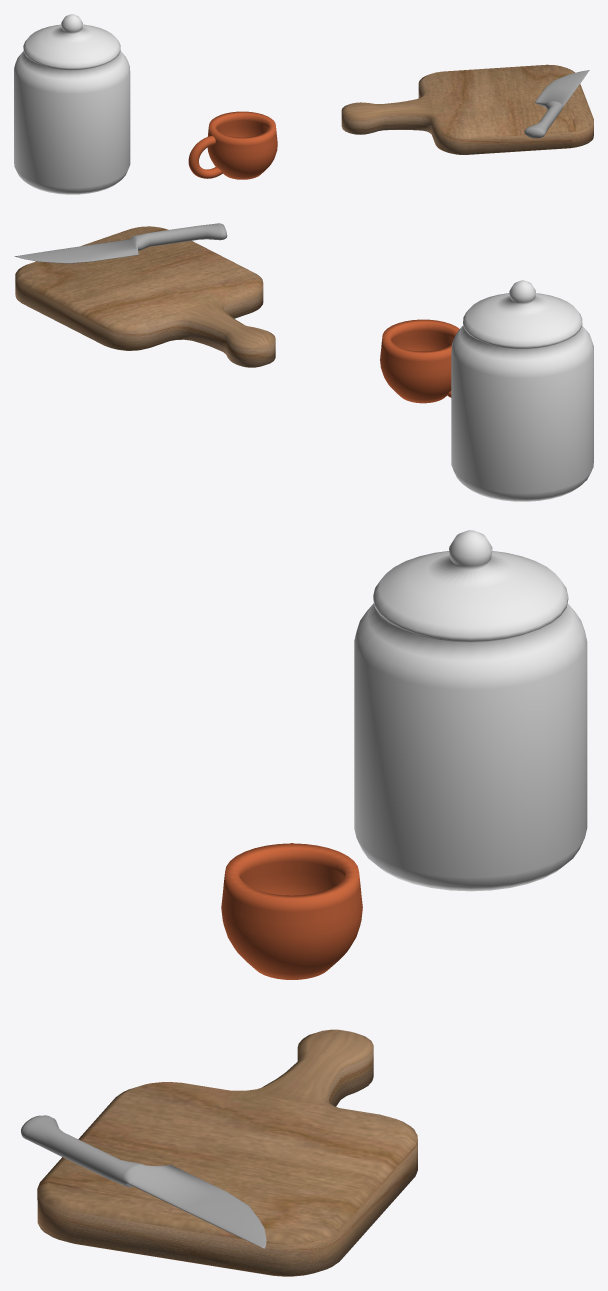
Rendered from props cocina.fbx.
3 renders of one model, top to bottom at view 1: azimuth 30°, elevation 25°; view 2: azimuth 150°, elevation 25°; view 3: azimuth 270°, elevation 25°, orthographic. The views are drawn at different scales.
Visible parts, largest first — view 1: Cylinder.006, Cylinder.003, Torus.001, Cylinder.017; view 2: Cylinder.006, Cylinder.003, Torus.001, Cylinder.017; view 3: Cylinder.006, Cylinder.003, Torus.001, Cylinder.017.
Part boxes in pixels (bbox=[...]): Cylinder.006: bbox=[14, 14, 130, 194]; Cylinder.003: bbox=[341, 64, 593, 154]; Torus.001: bbox=[188, 111, 277, 179]; Cylinder.017: bbox=[524, 70, 589, 138]; Cylinder.006: bbox=[451, 280, 593, 501]; Cylinder.003: bbox=[15, 226, 275, 367]; Torus.001: bbox=[380, 319, 459, 403]; Cylinder.017: bbox=[14, 223, 227, 263]; Cylinder.006: bbox=[354, 530, 587, 891]; Cylinder.003: bbox=[37, 1029, 417, 1276]; Torus.001: bbox=[221, 843, 362, 979]; Cylinder.017: bbox=[21, 1115, 266, 1248].
Size of the model in its own units: 821 by 240 by 390.
